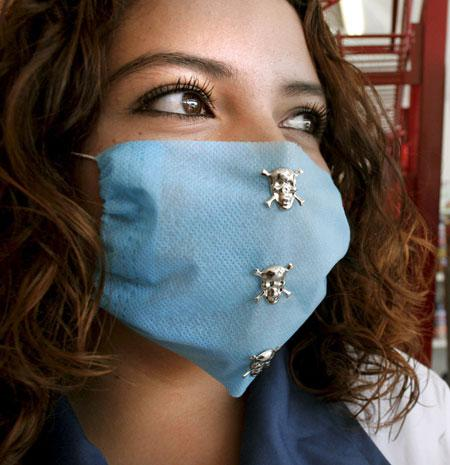OK: (62, 45, 367, 350)
